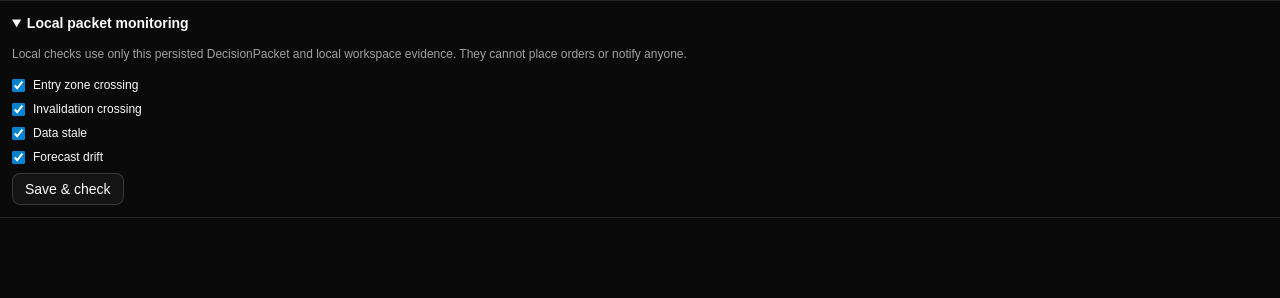
Test: PacketMonitoring › registers the persisted packet with fixed checks and renders typed evaluation facts
Expected: the checkbox labelled "Entry zone crossing" is shown, [12,78,25,92]
Click the checkbox labelled "Forecast drift". click: (18, 157)
box: [12,150,25,164]
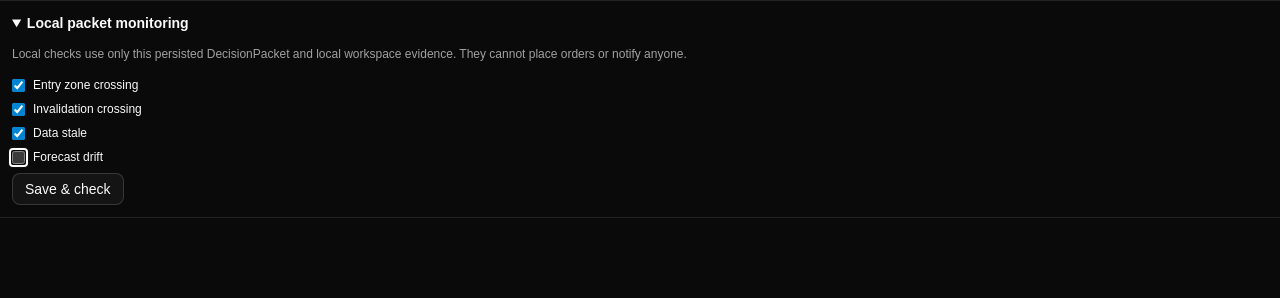
Click the button "Save & check". click: (68, 188)
box: [12,172,124,204]
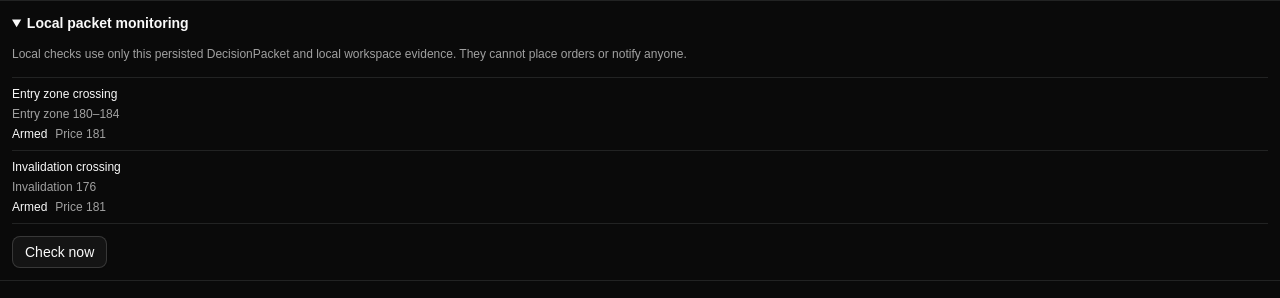
Result: the text "Entry zone 180–184" is shown at [12,106,119,120]
Result: the text "Price 181" is shown 2 times at [55,126,106,142]; [55,198,106,214]
Result: the button "Check now" is shown at [12,236,107,268]
